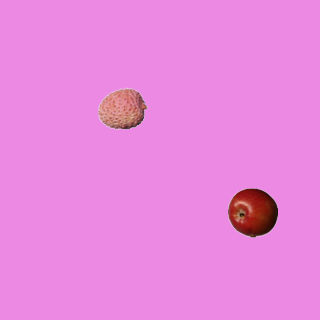Apple Braeburn: (227, 187, 277, 237)
Lychee: (97, 83, 147, 133)
